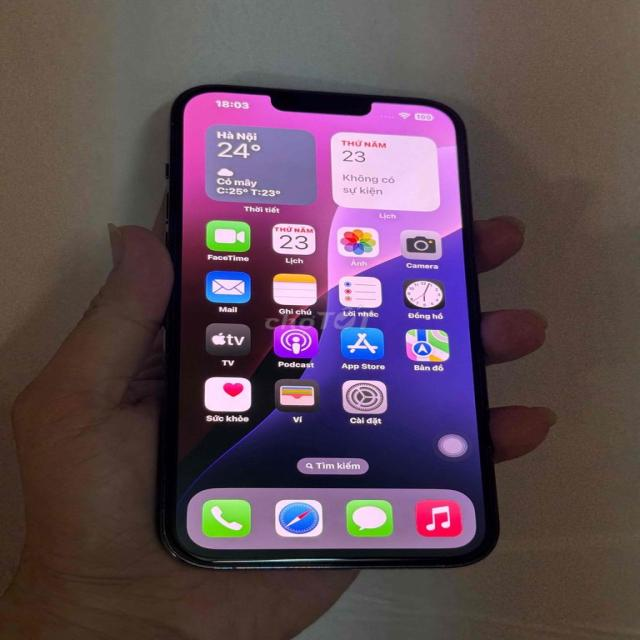gen_12_13: (150, 72, 501, 578)
